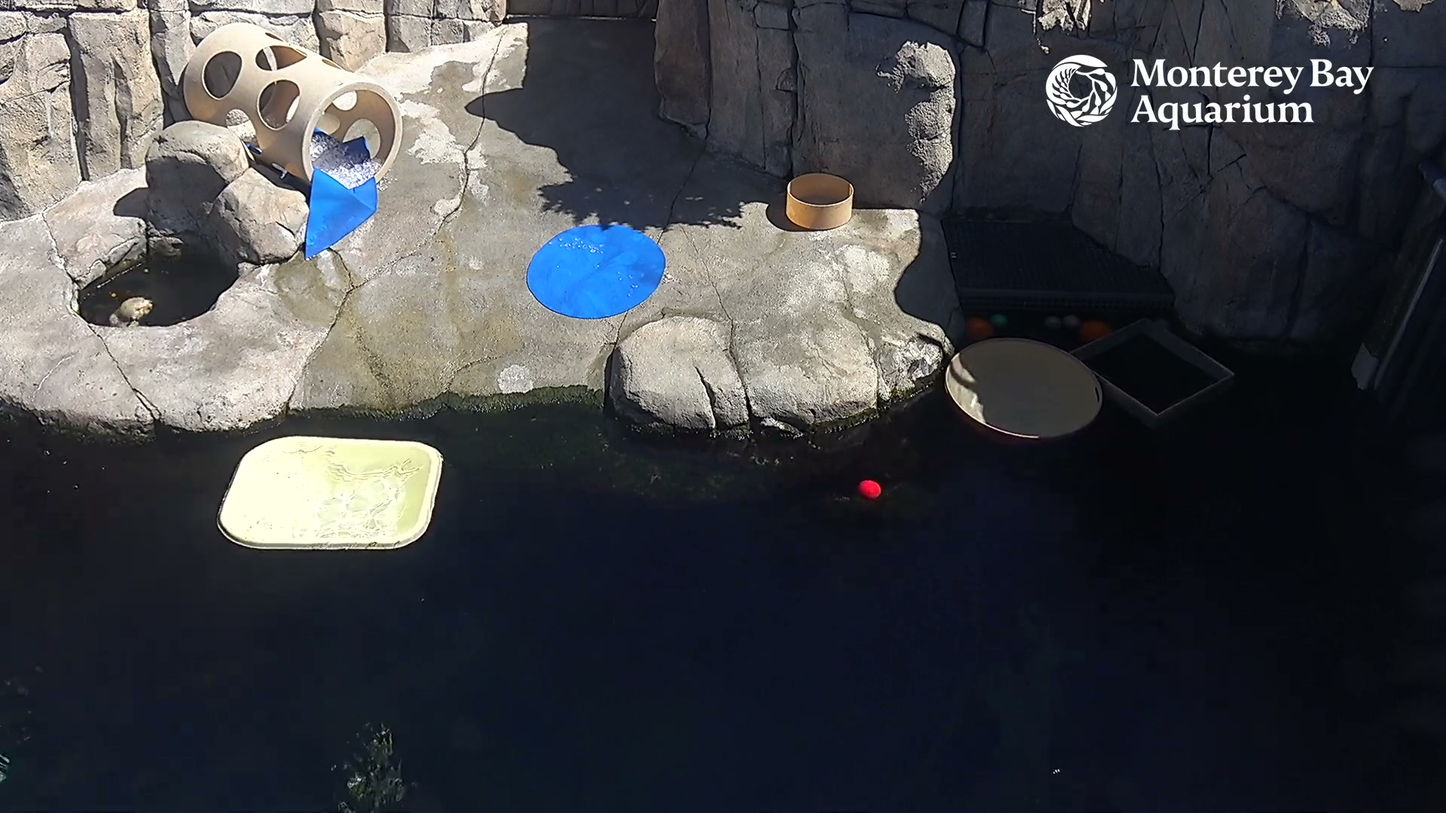Southern Sea Otter: (110, 252, 166, 377)
